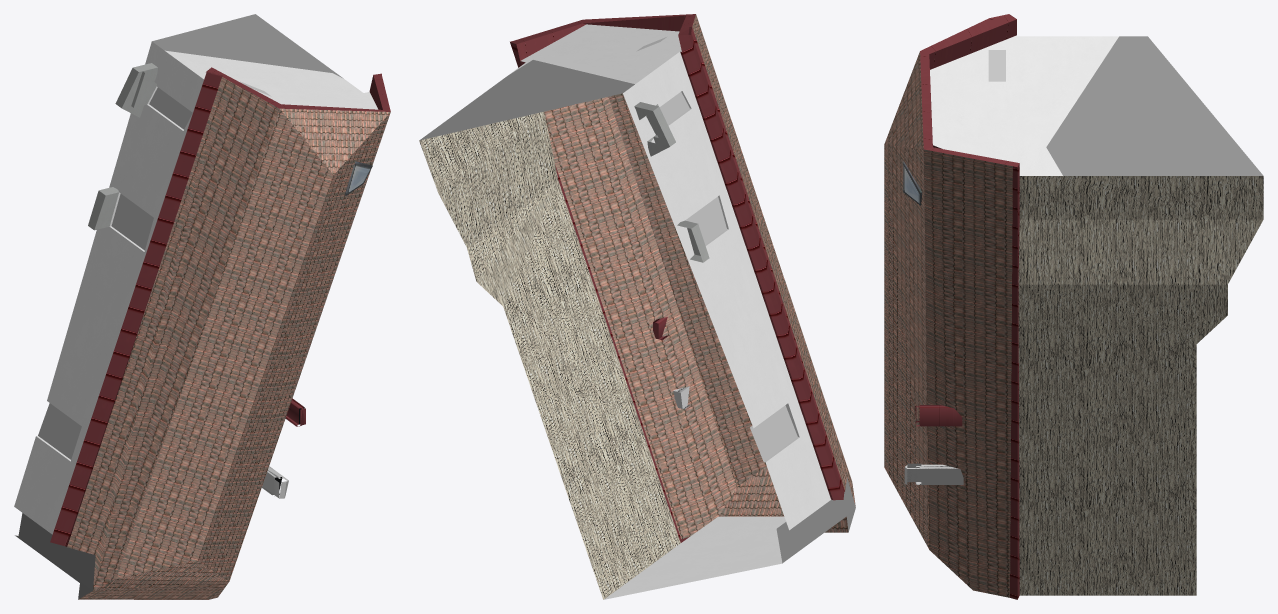
Rendered from Lyhike_jalg_9-origo.obj.
The picture shows the model from 3 angles, left to right: view 1: azimuth 30°, elevation 25°; view 2: azimuth 150°, elevation 25°; view 3: azimuth 270°, elevation 25°; orthographic projection. The views are drawn at different scales.
Visible parts, largest first — view 1: Lyhike_Jalg_9; view 2: Lyhike_Jalg_9; view 3: Lyhike_Jalg_9.
Boxes of the visible parts, x1=… form: Lyhike_Jalg_9: x1=14, y1=14, x2=390, y2=599; Lyhike_Jalg_9: x1=419, y1=14, x2=855, y2=599; Lyhike_Jalg_9: x1=884, y1=14, x2=1263, y2=599.
Bounding box in the file's own units: 10.94 × 16 × 9.51.
